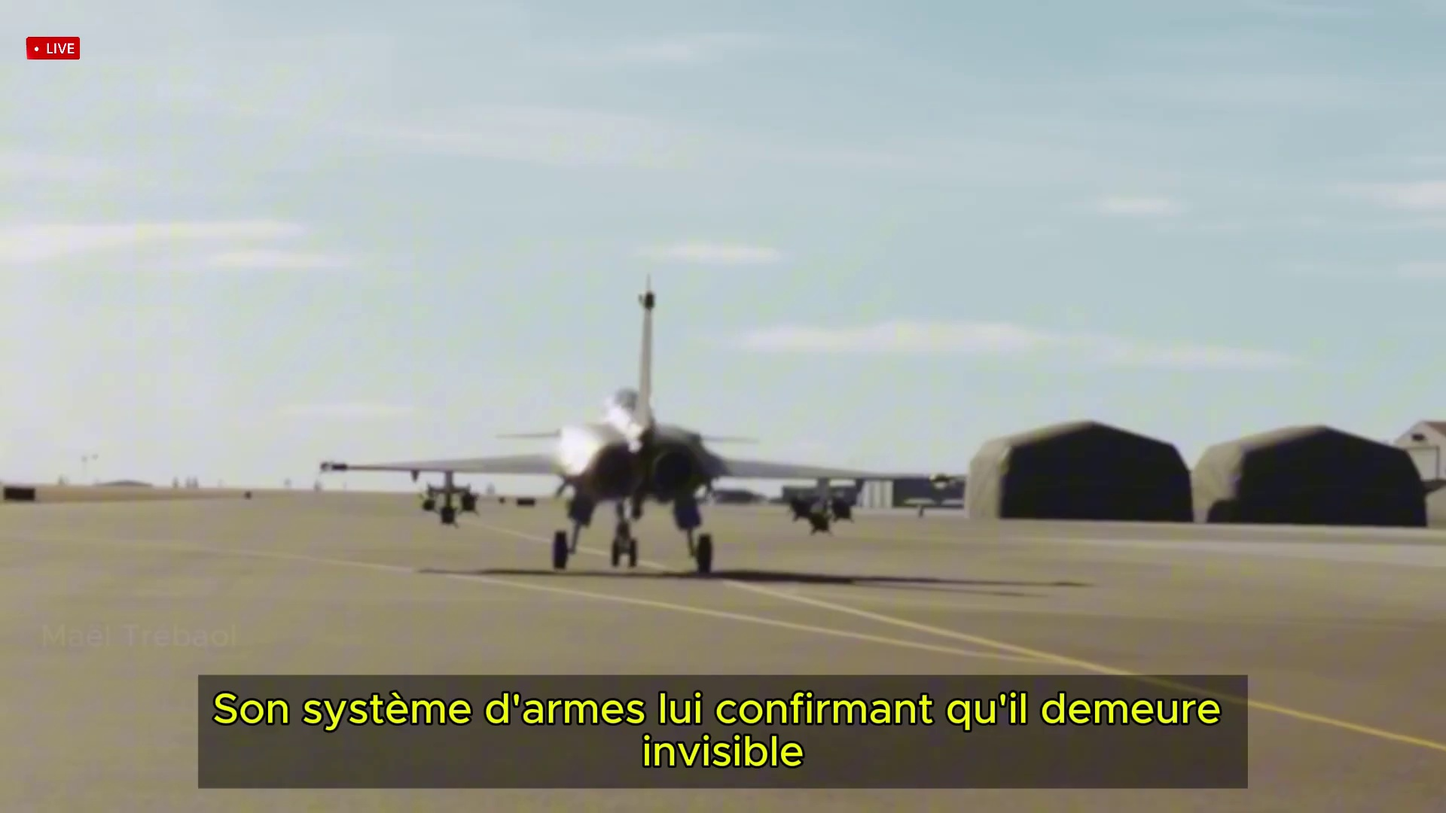Rafale: (329, 276, 949, 574)
